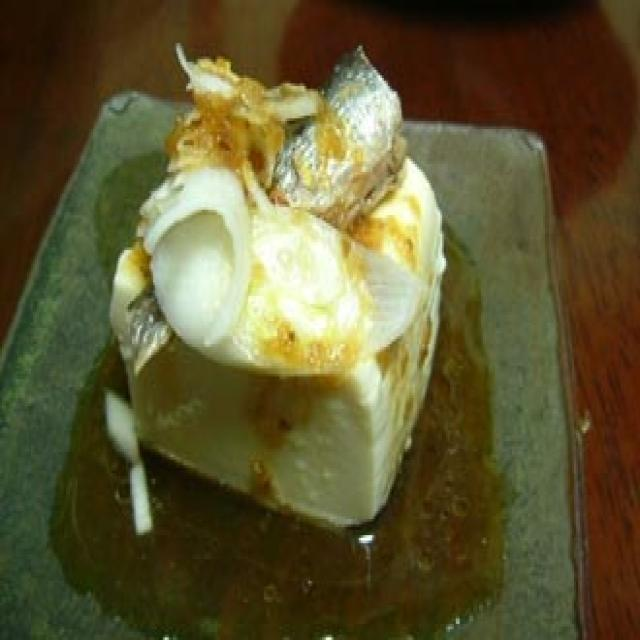豆腐料理: (97, 41, 448, 544)
